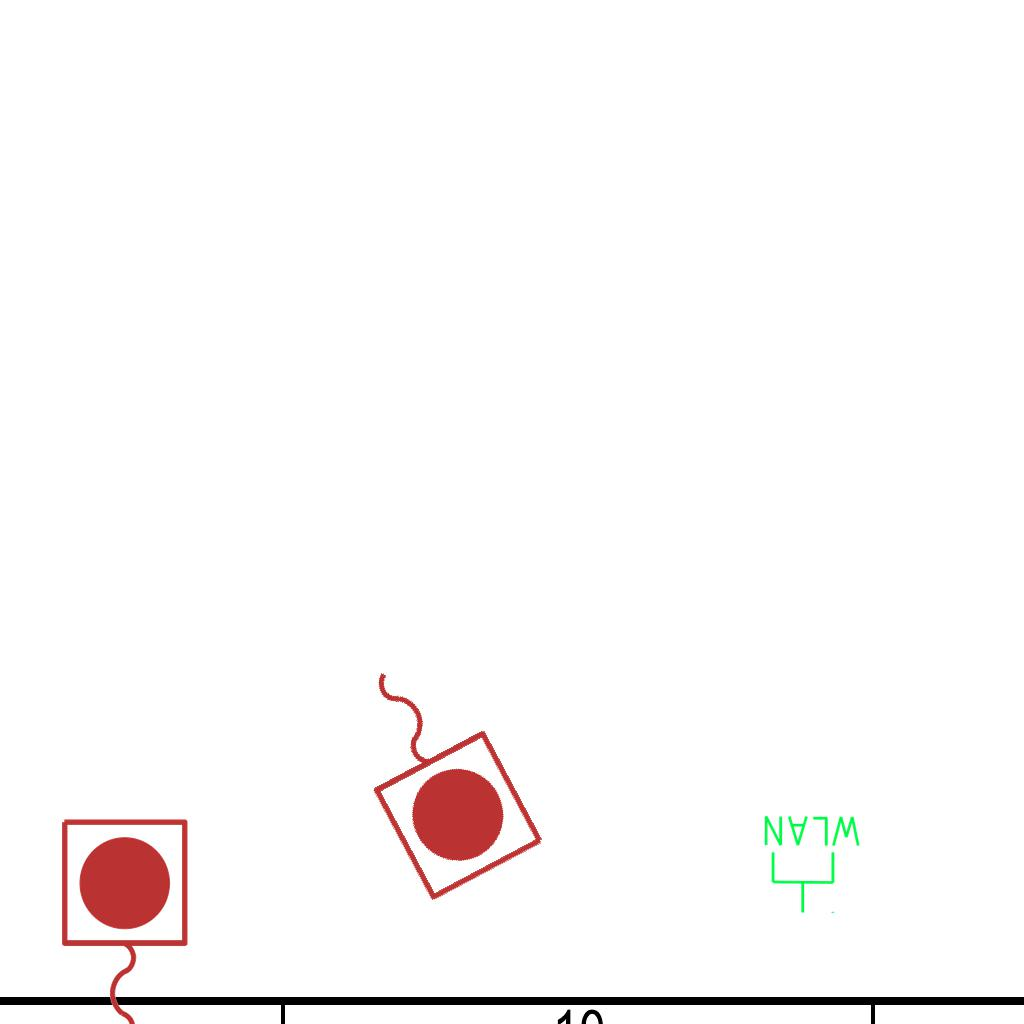WLAN: (760, 812, 865, 916)
Zugtaster: (315, 628, 557, 912), (51, 811, 195, 1024)
